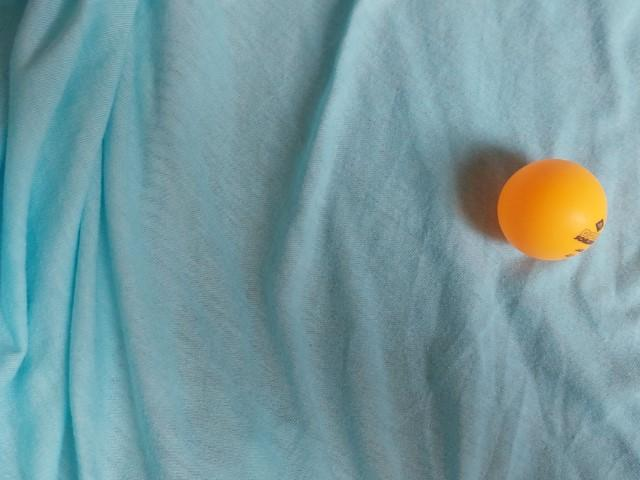oball: (491, 154, 614, 267)
